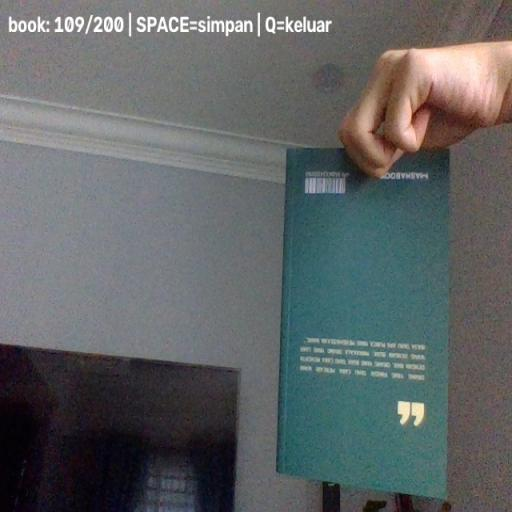Book: (275, 147, 451, 500)
